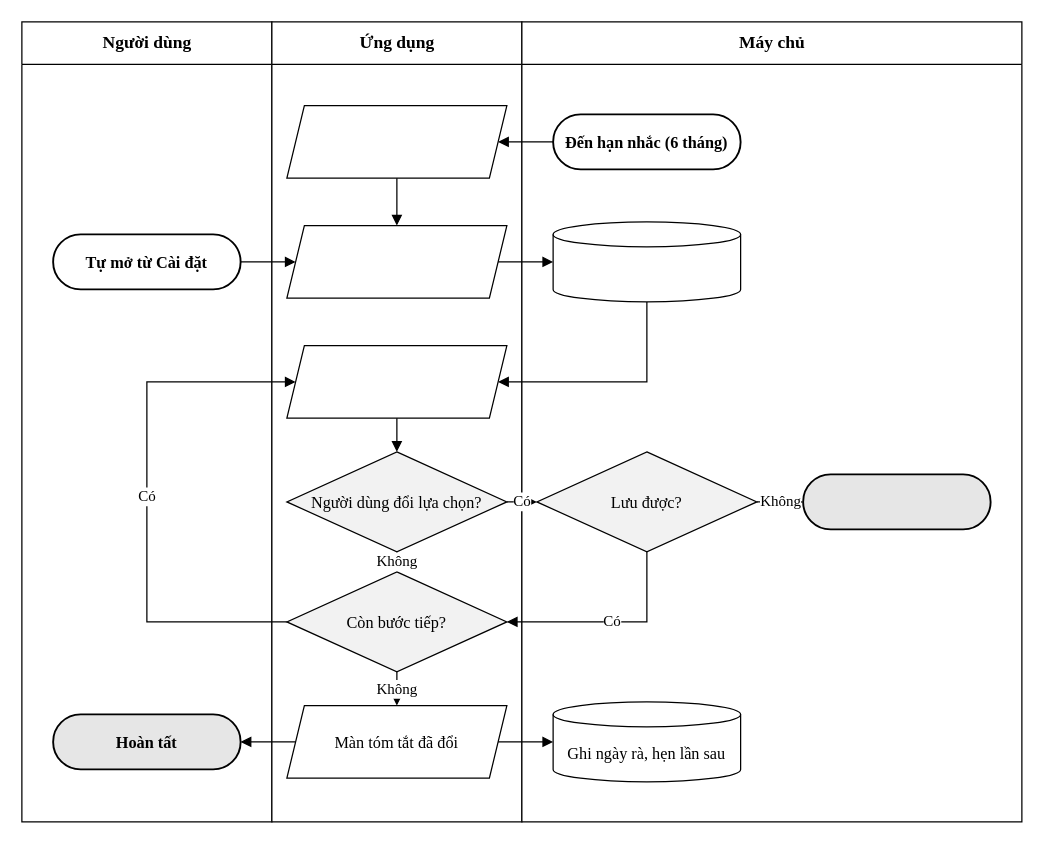
Some shapes in this 1044 by 844 pixel diagram are drawn without their labels. The shapes that lost their labels are listed below. From the top down, each one's centre as x and y in pixels, then its label:
the point at 396,141: Nhắc: rà quyền riêng tư
the point at 396,261: Màn giới thiệu các bước
the point at 646,261: Đọc cài đặt hiện tại
the point at 396,381: Một bước: giải thích + lựa chọn
the point at 896,501: Trả lựa chọn cũ, báo lỗi
